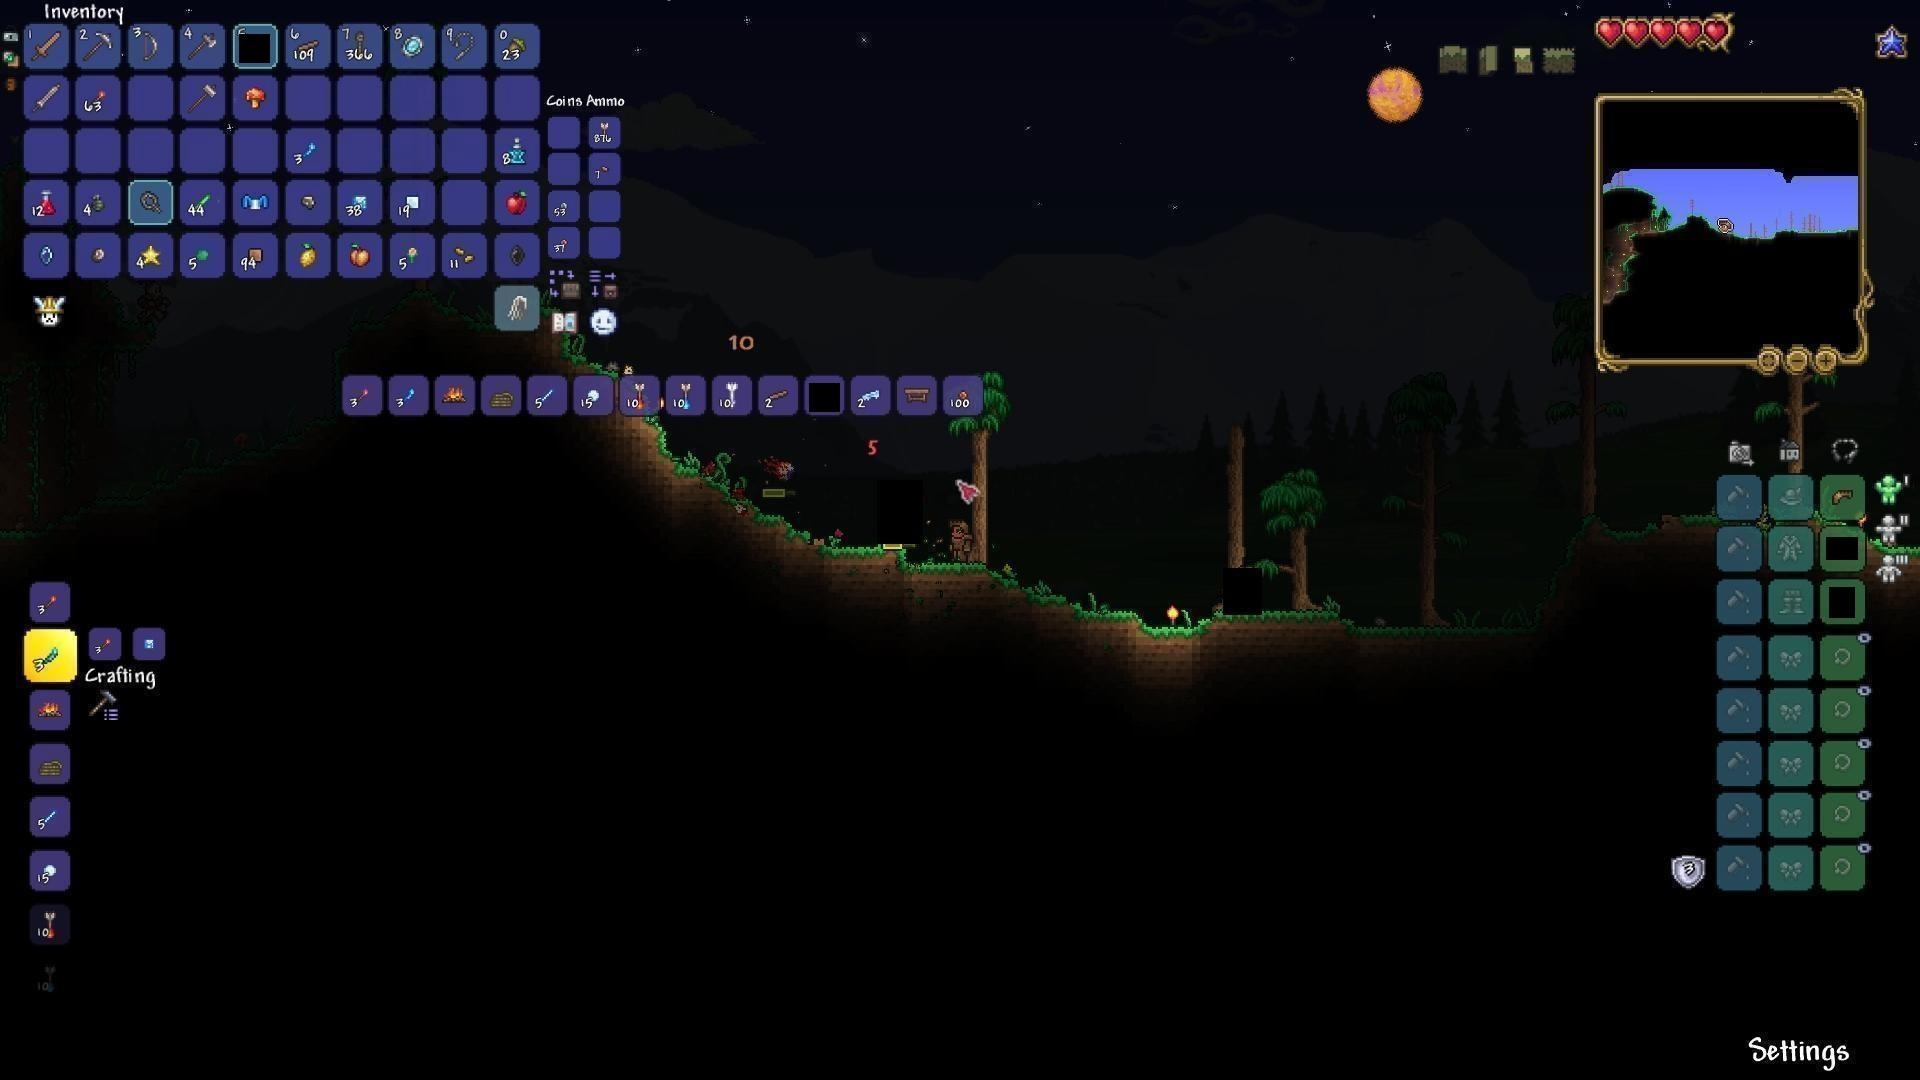helmet: (1825, 480, 1859, 512)
workbench: (899, 382, 935, 406)
